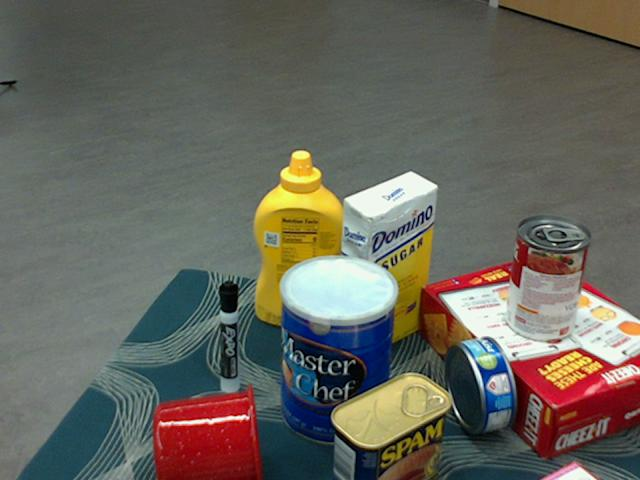cracker_box: (417, 255, 639, 455)
gelatin_box: (535, 461, 597, 479)
large_marker: (217, 279, 237, 393)
master_chef_can: (280, 256, 399, 447)
mug: (152, 383, 262, 479)
mustard_bottle: (253, 151, 346, 329)
potted_meat_can: (330, 373, 452, 479)
sugar_box: (335, 173, 438, 361)
tomato_soup_can: (505, 217, 590, 344)
tuna_fish_can: (445, 335, 518, 433)
